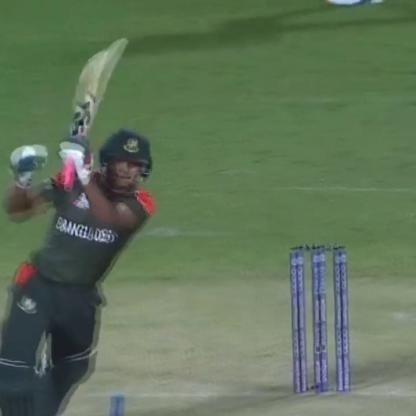bat: (67, 34, 131, 149)
